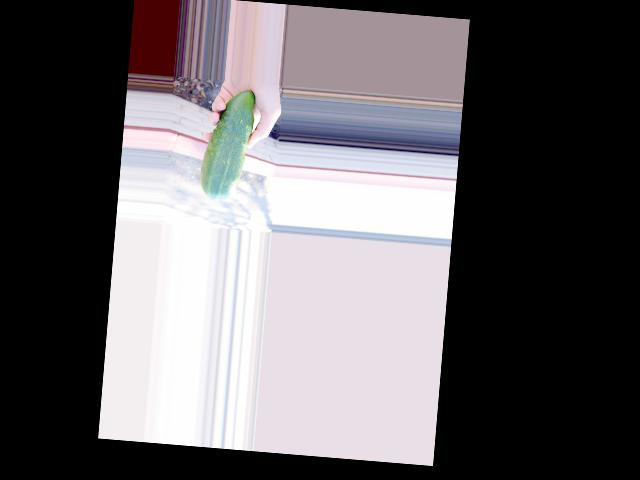cucumber: (197, 87, 255, 202)
